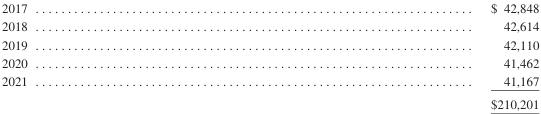table: (0, 0, 538, 110)
table column: (258, 0, 538, 110), (0, 0, 258, 110)
table row: (0, 71, 538, 91), (0, 91, 538, 110), (0, 17, 538, 35), (0, 35, 538, 53), (0, 53, 538, 71), (0, 0, 538, 17)
